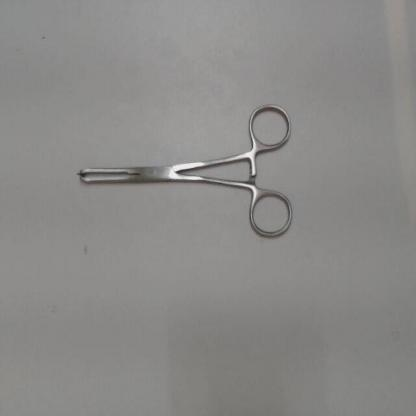Allis Tissue Forceps: (69, 99, 297, 250)
